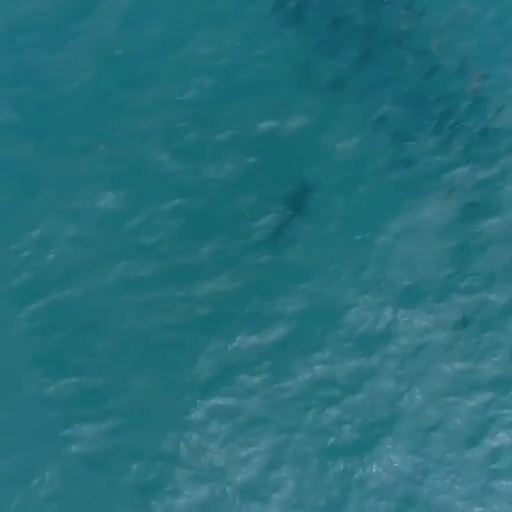shark: (265, 174, 318, 245)
